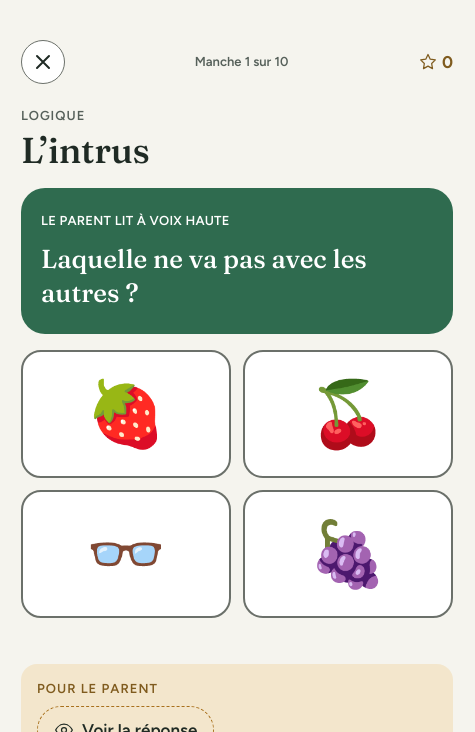
Scenario: L’intrus › toucher une image ne valide rien : le parent garde la main
Expected: the heading "L’intrus" is shown, [21,128,149,172]
Expected: the element named "Question" shows "Laquelle ne va pas avec les autres ?", [41,243,367,309]
What coordinates should you click on to do the following:
click the button "🍓"
I would click on:
 (126, 414)
Its box is [21,350,231,478].
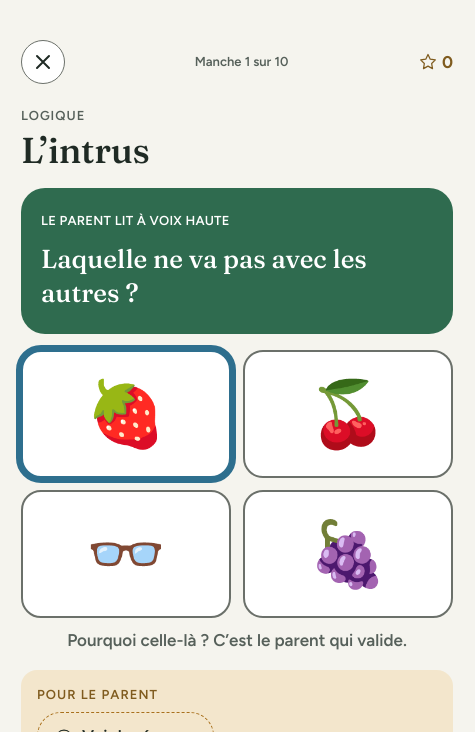
Expected: the text "Manche 1 sur 10" is shown, [195,53,288,71]
Expected: the message shows "C’est le parent qui valide", [67,630,407,650]
What coordinates should you click on to do the following:
click the button "🍒"
I would click on:
 (348, 414)
Its box is [243,350,453,478].
(page scrolled)
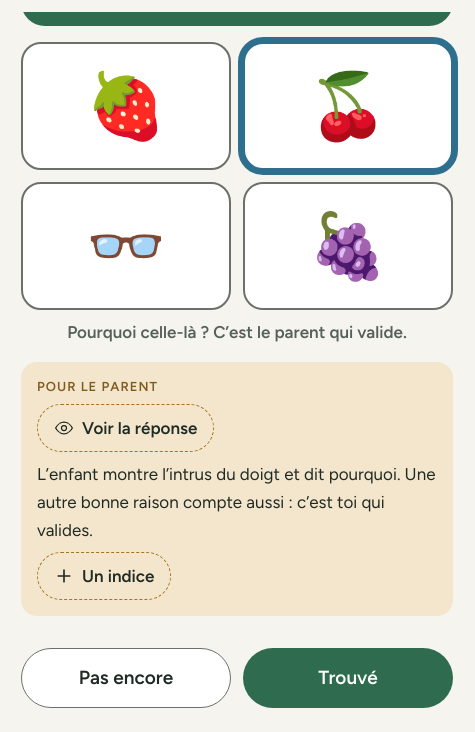
Expected: the button "🍓" is not pressed, [21,42,231,170]
Expected: the button "🍒" is pressed, [243,42,453,170]
// Le parent voit l'intrus, sa place et la règle cachée.
What coordinates should you click on to do the following:
click the button "Voir la réponse"
I would click on:
 (126, 428)
Its box is [37,404,214,452].
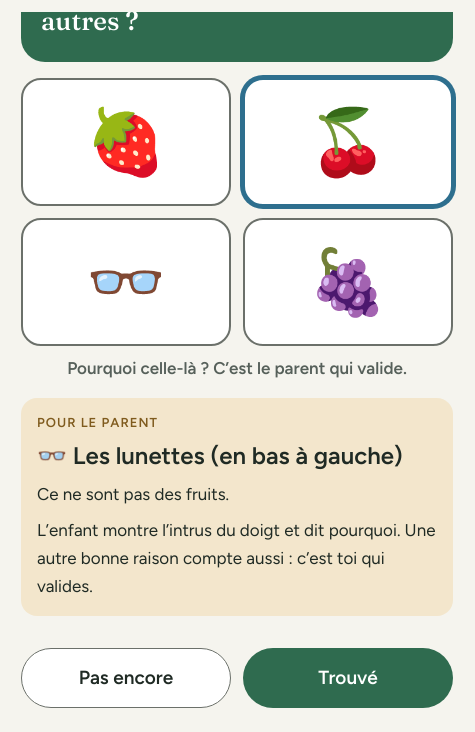
Expected: the element "Pour le parent" reads "Pour le parent 👓 Les lunettes (en bas à gauche) Ce ne sont pas des fruits. L’en", [21,398,453,616]
What coordinates should you click on to do the following:
click the button "Trouvé"
I would click on:
 (348, 678)
Its box is [243,648,453,708].
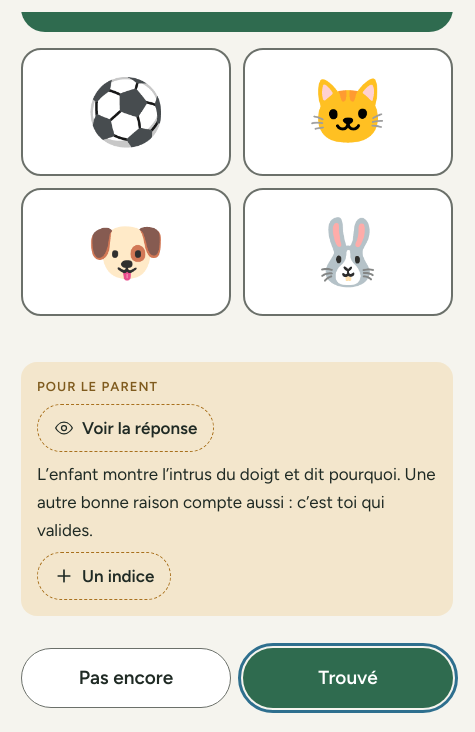
Expected: the button "⚽" is not pressed, [21,48,231,176]
Expected: the button "🐱" is not pressed, [243,48,453,176]
What coordinates should you click on to do the following:
click the button "Pas encore"
I would click on:
 (126, 678)
Its box is [21,648,231,708].
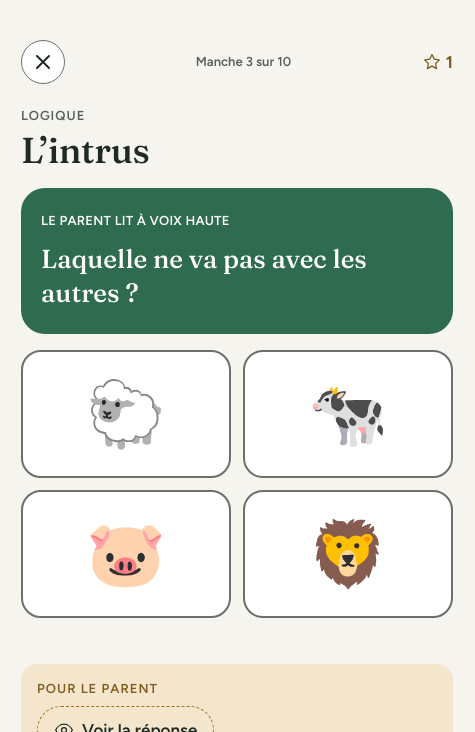
Expected: the text "Manche 3 sur 10" is shown, [196,53,291,71]
